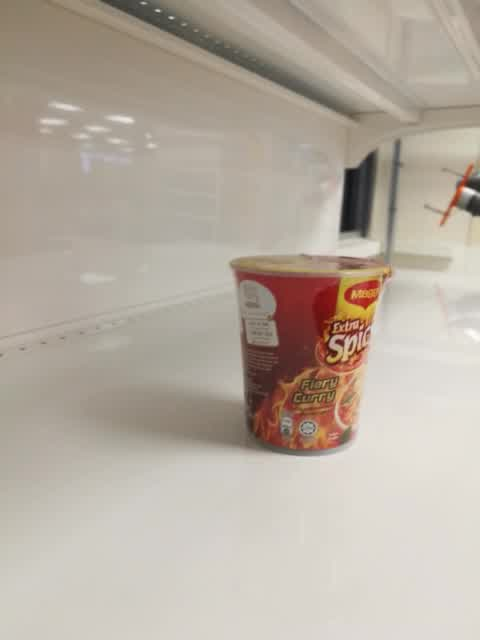maggi: (228, 252, 394, 457)
